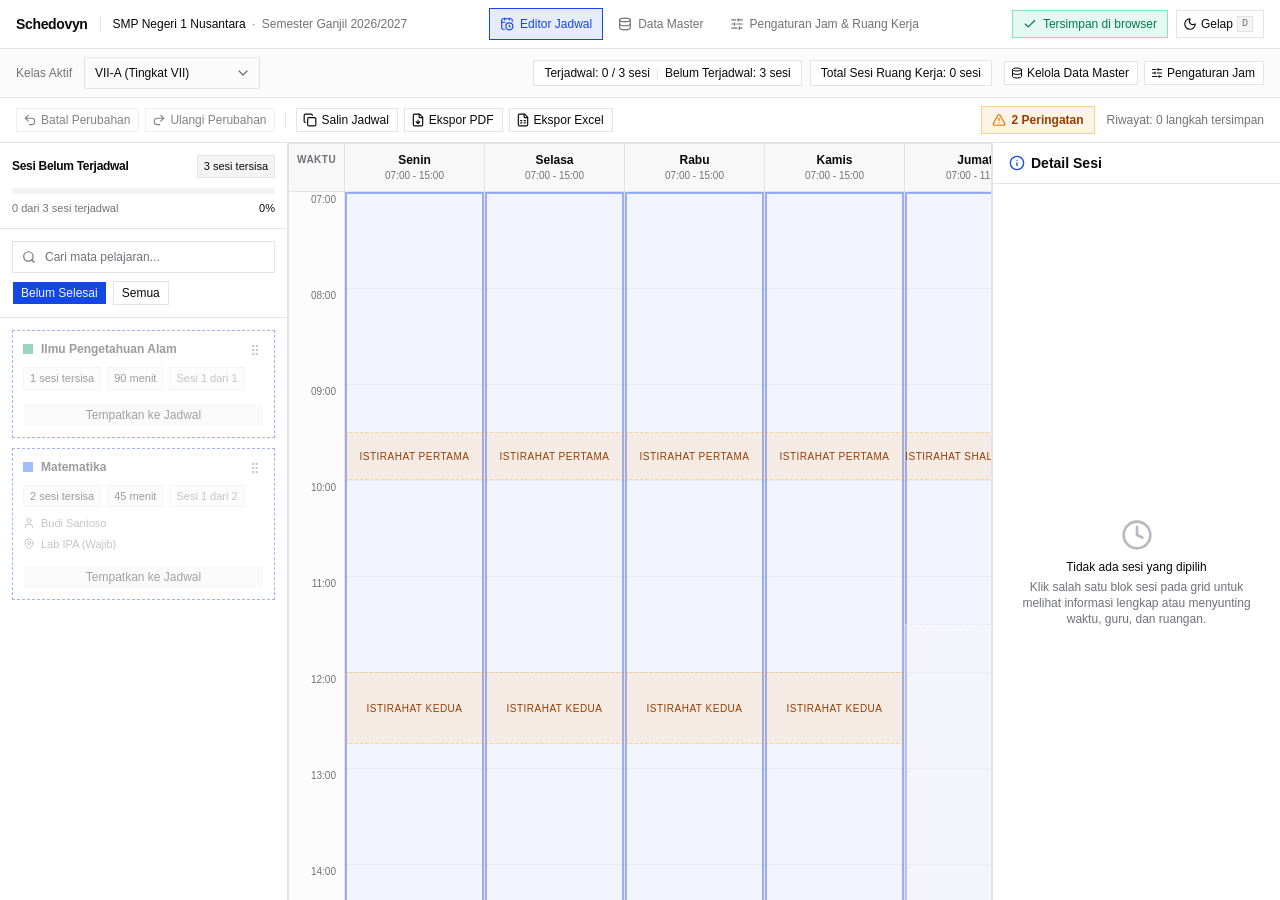
Test case: FR-04: Antarmuka Editor Jadwal 3 Panel & Aksesibilitas Keyboard (timetable-editor-ui) › 2. filter pencarian mata pelajaran menyaring kartu sesi di panel belum terjadwal secara presisi
The width and height of the screenshot is (1280, 900).
Check: the text "Matematika" is shown, box [41,458,106,474]
Check: the text "Ilmu Pengetahuan Alam" is shown, box [41,341,177,357]
# Ketikkan kata kunci filter
Type "Ilmu" into the field with placeholder "Cari mata pelajaran..." at (144, 257), box [12,241,275,273]
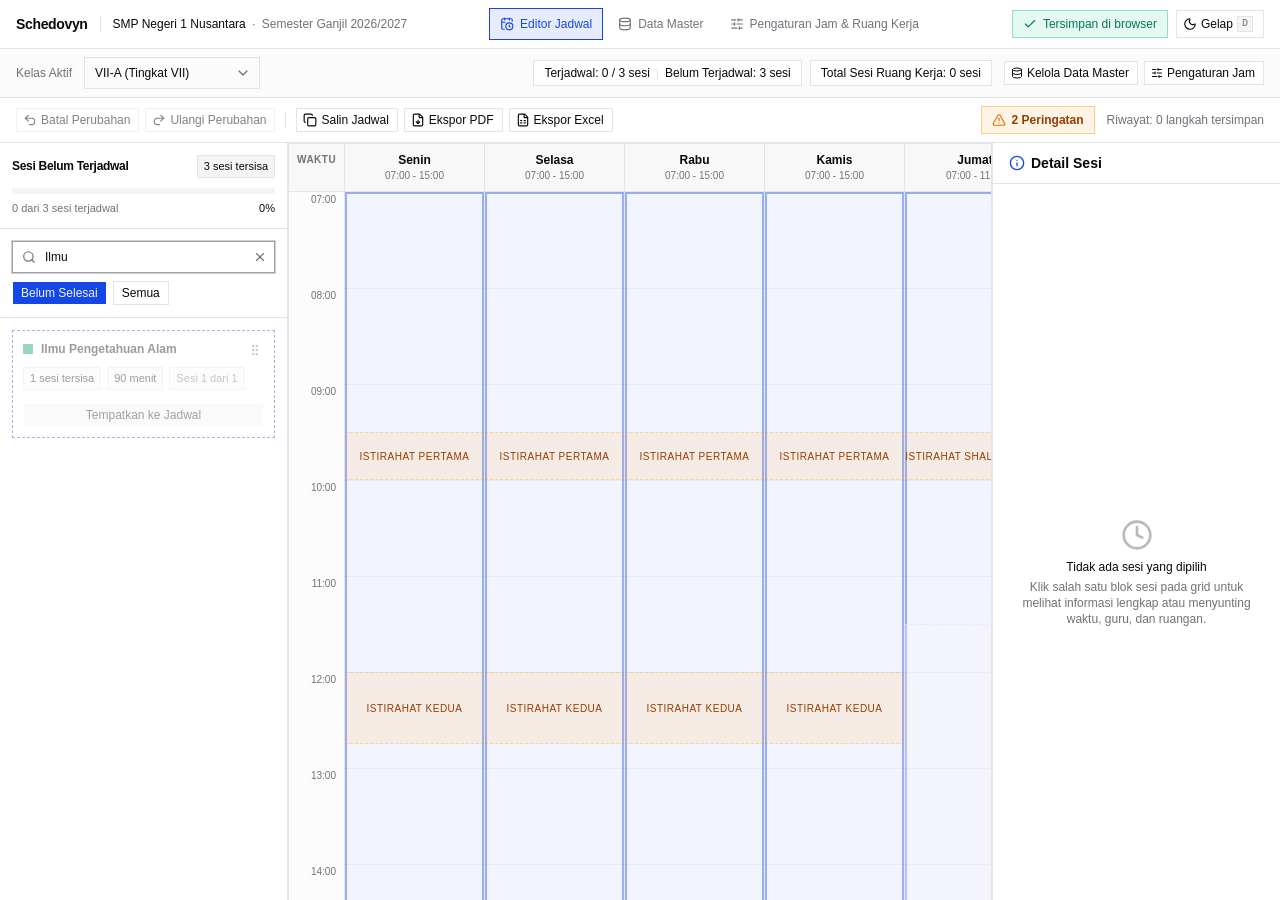
Check: the text "Ilmu Pengetahuan Alam" is shown, box [41,341,177,357]
Check: the text "Matematika" is gone
